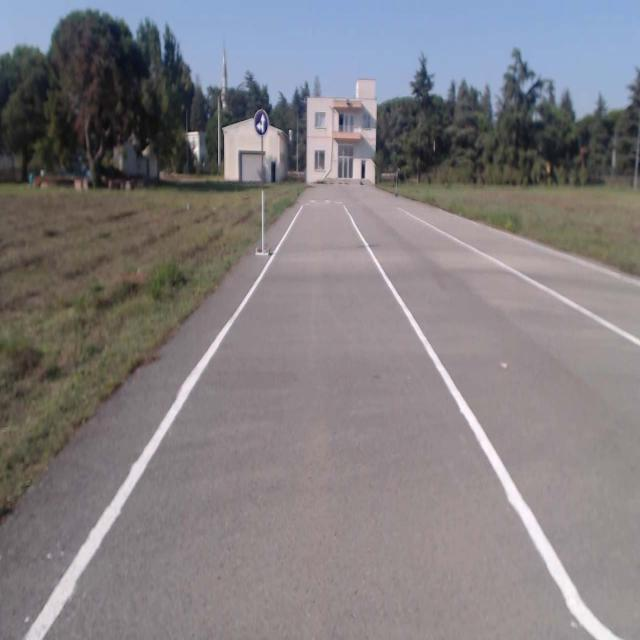ilerisol: (254, 110, 268, 134)
